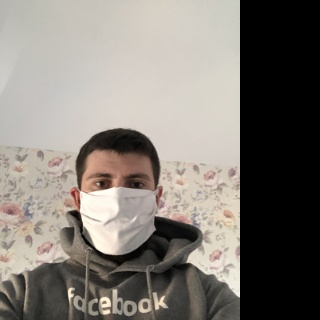with_mask: (79, 164, 158, 254)
